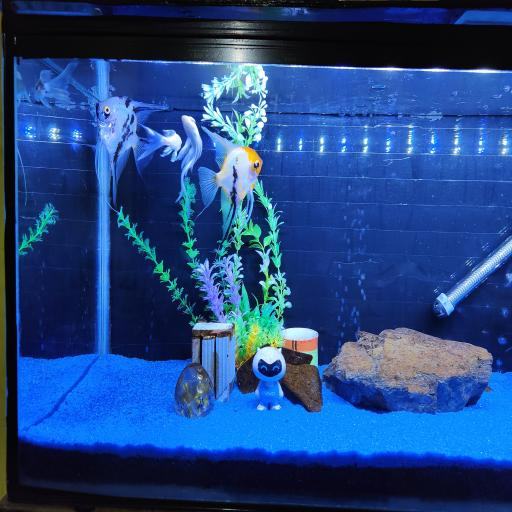Fish: (96, 97, 167, 205), (199, 127, 262, 239), (138, 116, 202, 216), (176, 115, 202, 202), (35, 63, 77, 108), (138, 124, 181, 161), (16, 71, 30, 105)
